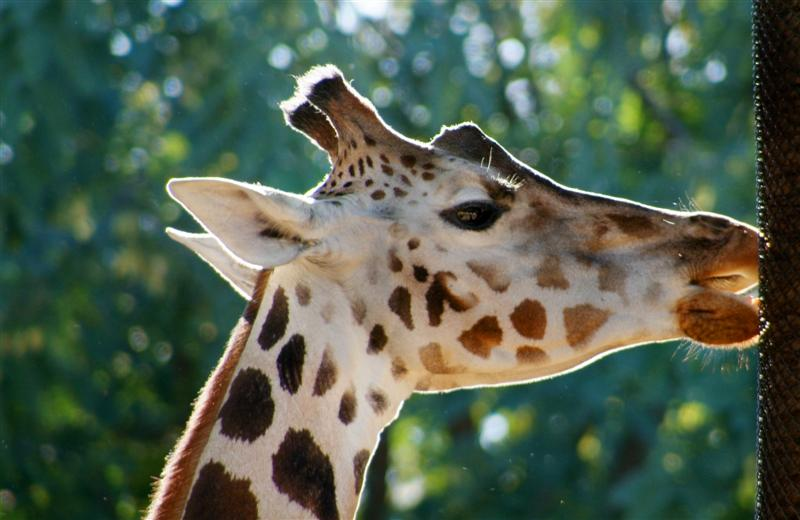Jirafa: (143, 29, 800, 468)
